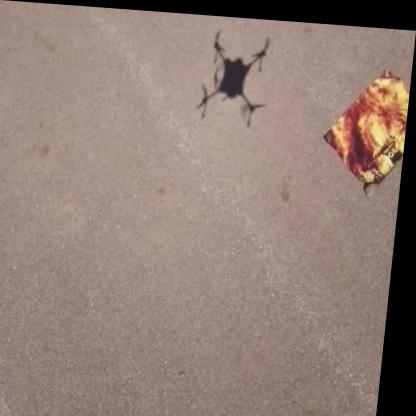fire-poster: (320, 57, 413, 192)
